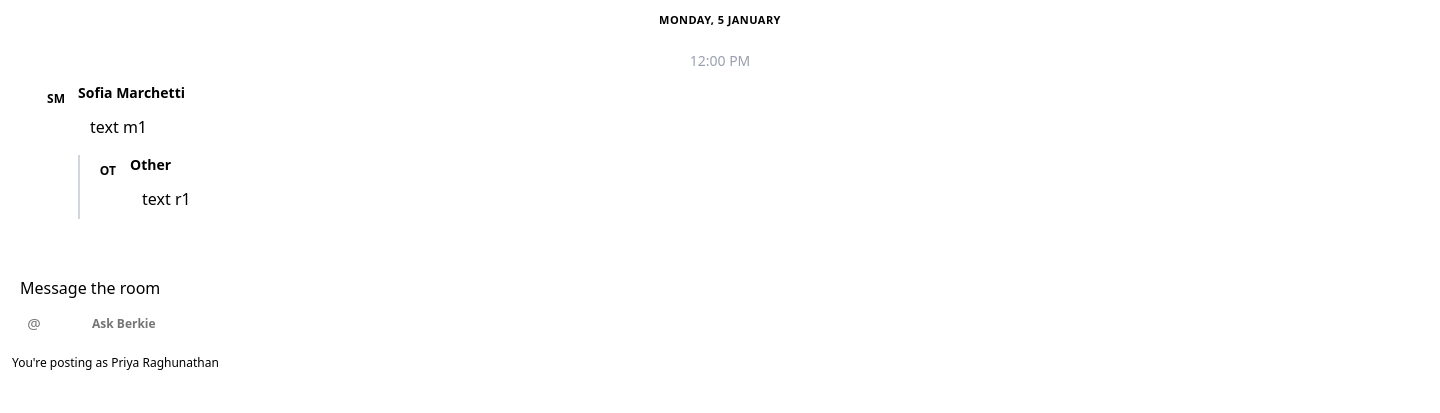
it: CommunityGroupChatPanel › moderation controls › closes the open thread when its parent leaves the list
Hover over the element showing "text m1".
mouse_move(118, 127)  # box [90, 116, 147, 138]
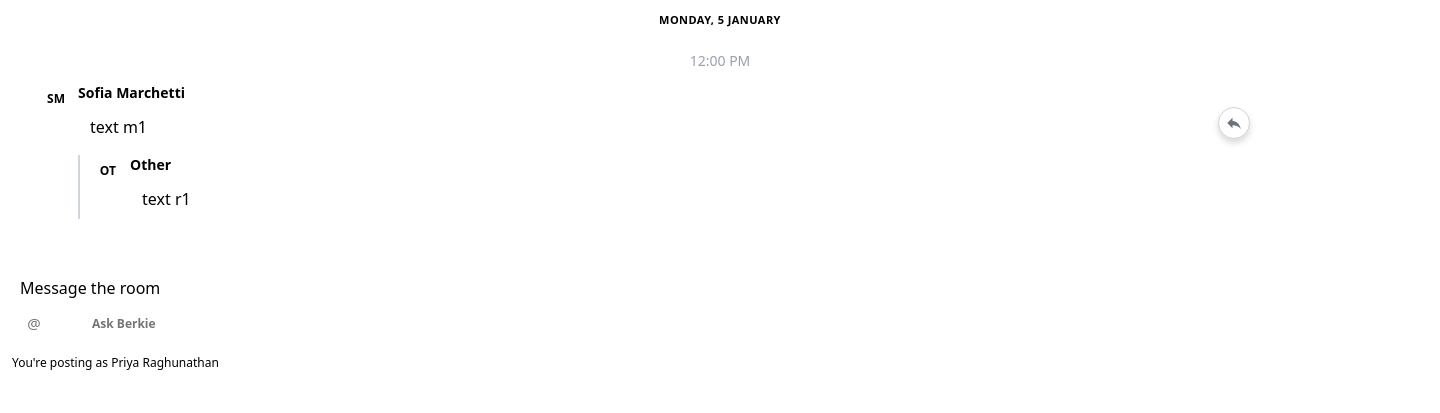
Click the button named "Reply to Sofia Marchetti".
click(1234, 123)  # box [1218, 107, 1250, 139]
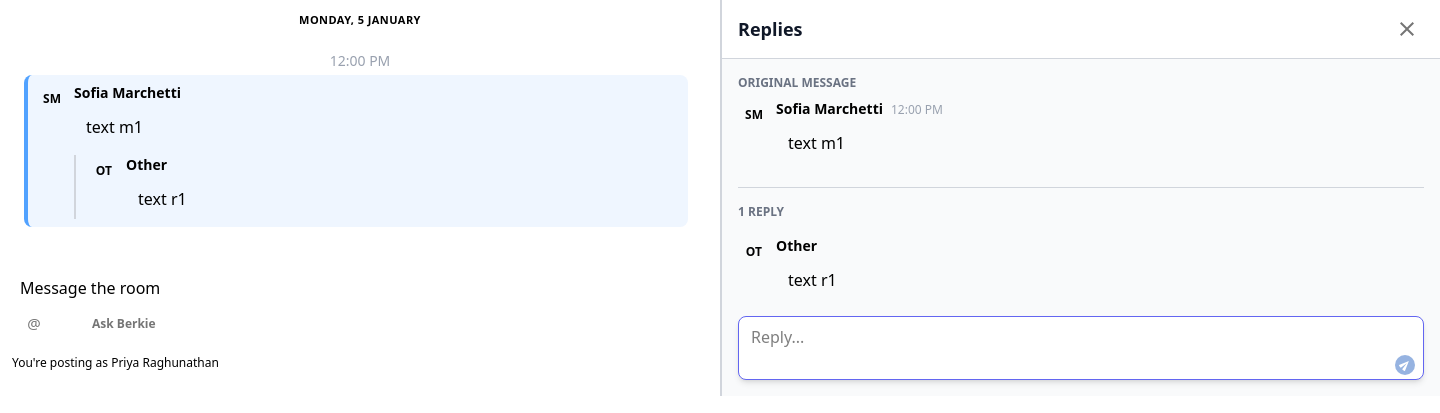
Expected: the heading "Replies" is shown, [738, 15, 802, 43]
